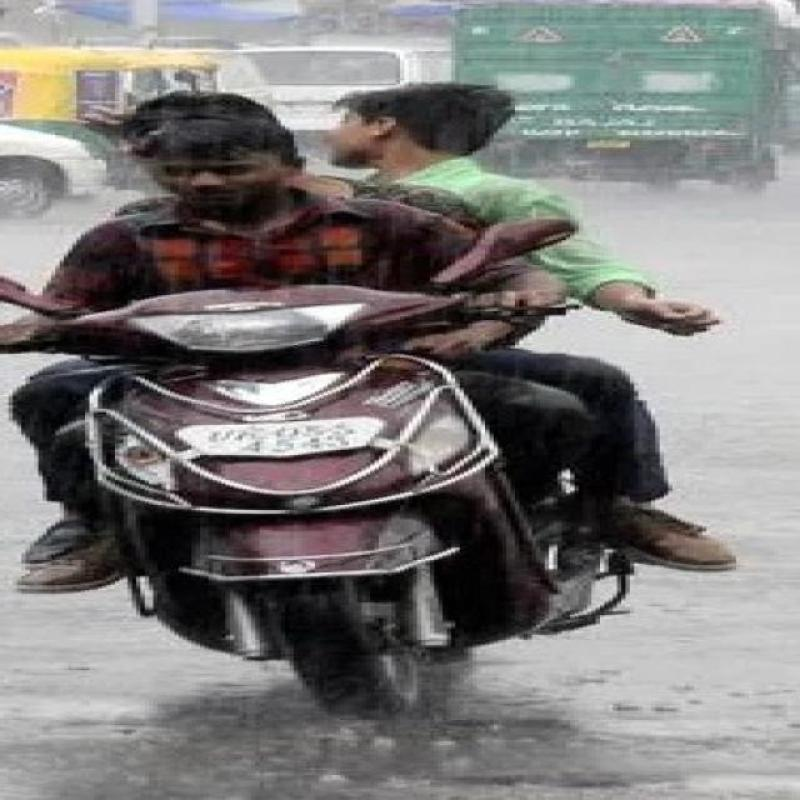nohelmet: (332, 86, 511, 170), (144, 120, 307, 211)
